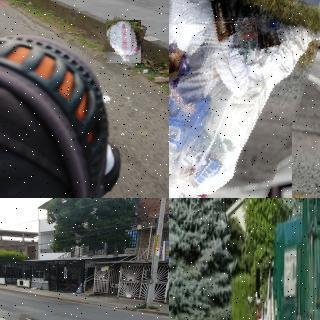Garbage: (169, 0, 311, 198), (103, 18, 144, 65)
